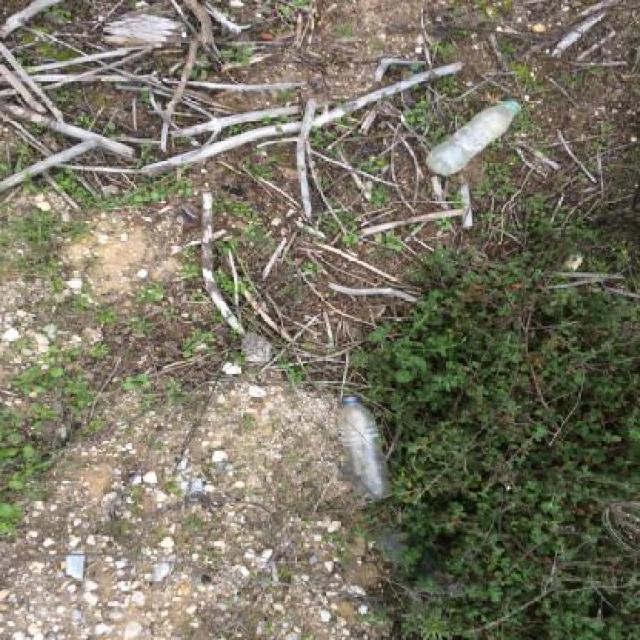plastic: (424, 99, 521, 176), (336, 396, 396, 498)
